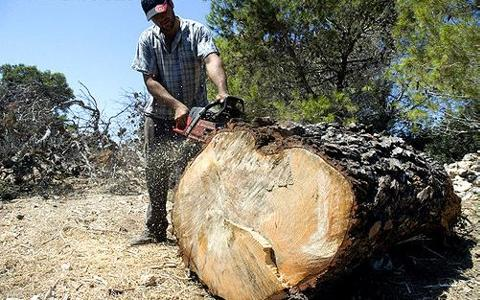person: (129, 2, 230, 248)
